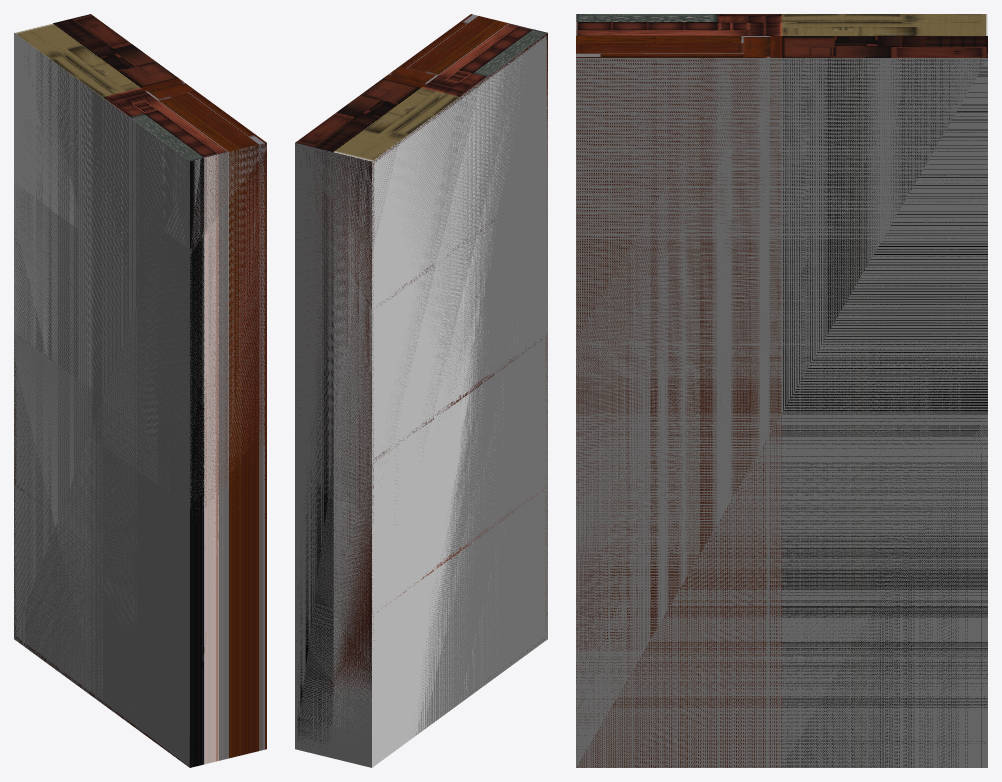
Rendered from shelf_01.FBX.
The picture shows the model from 3 angles, left to right: view 1: azimuth 30°, elevation 25°; view 2: azimuth 150°, elevation 25°; view 3: azimuth 270°, elevation 25°; orthographic projection. The views are drawn at different scales.
Visible parts, largest first — view 1: colbox-1, bounds, shelf_one100; view 2: bounds, colbox-1, shelf_one100; view 3: bounds, colbox-1.
Boxes of the visible parts, x1,y1,x2,y2 form: colbox-1: [14, 14, 266, 767]; bounds: [14, 44, 266, 766]; shelf_one100: [14, 133, 266, 767]; bounds: [295, 35, 547, 767]; colbox-1: [295, 14, 547, 767]; shelf_one100: [295, 33, 547, 700]; bounds: [576, 58, 987, 767]; colbox-1: [576, 14, 987, 767].
Size of the model in its own units: 36.87 by 278 by 146.
